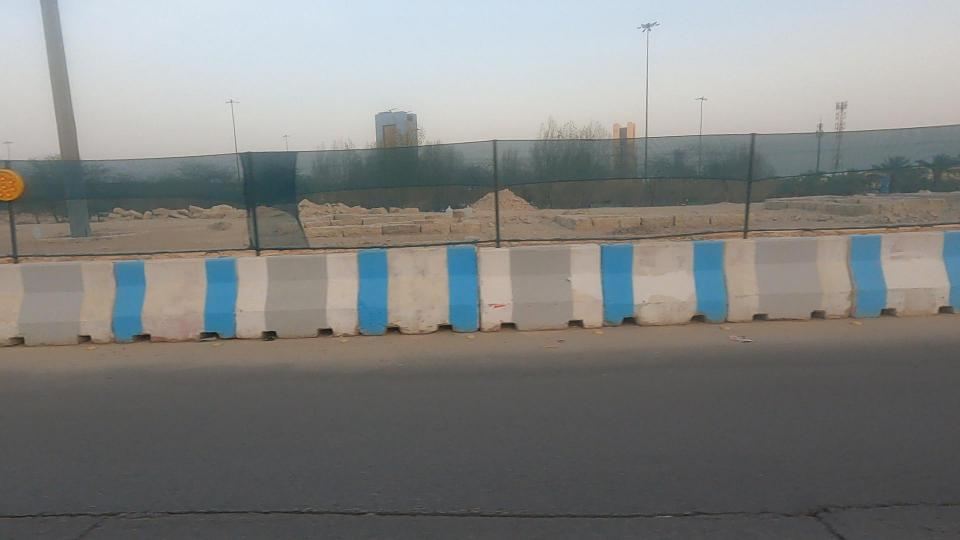CONSTRUCTION_ROAD: (0, 88, 507, 415), (534, 74, 960, 369), (306, 93, 705, 381)
